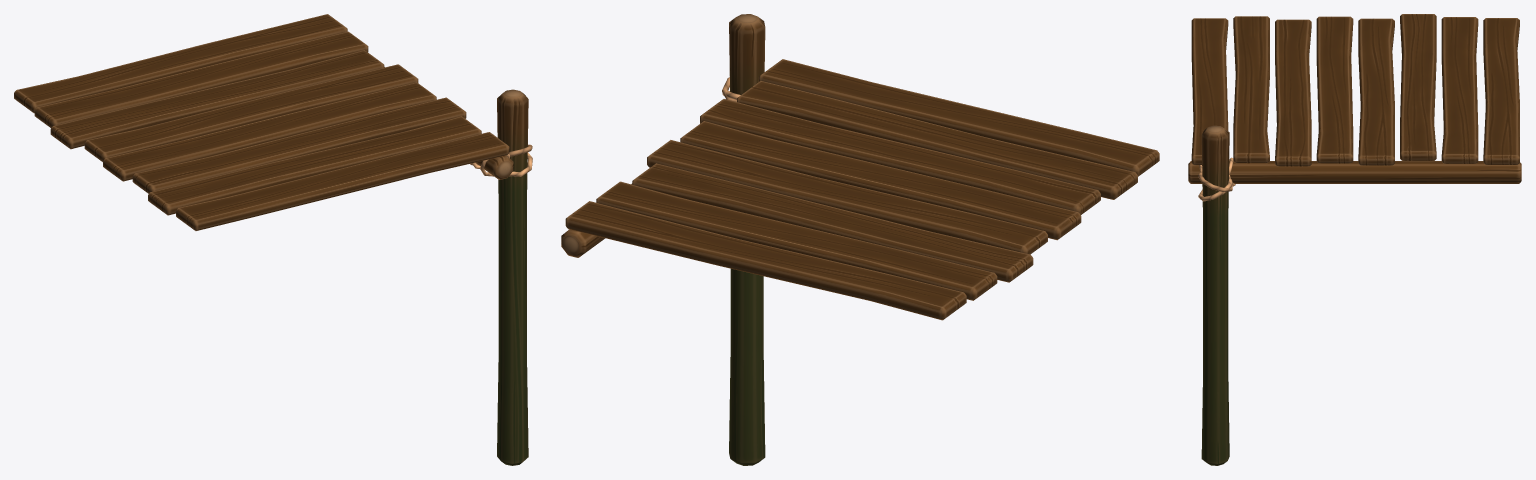
Rendered from Corner_right.2.fbx.
3 renders of one model, left to right at view 1: azimuth 30°, elevation 25°; view 2: azimuth 150°, elevation 25°; view 3: azimuth 270°, elevation 25°, orthographic. The views are drawn at different scales.
Parts seen in each view (by area): view 1: Corner_right.2; view 2: Corner_right.2; view 3: Corner_right.2.
Boxes of the visible parts, x1,y1,x2,y2 form: Corner_right.2: (14, 14, 532, 465); Corner_right.2: (561, 14, 1159, 465); Corner_right.2: (1188, 14, 1521, 465).
Size of the model in its own units: 225 by 220 by 200.
